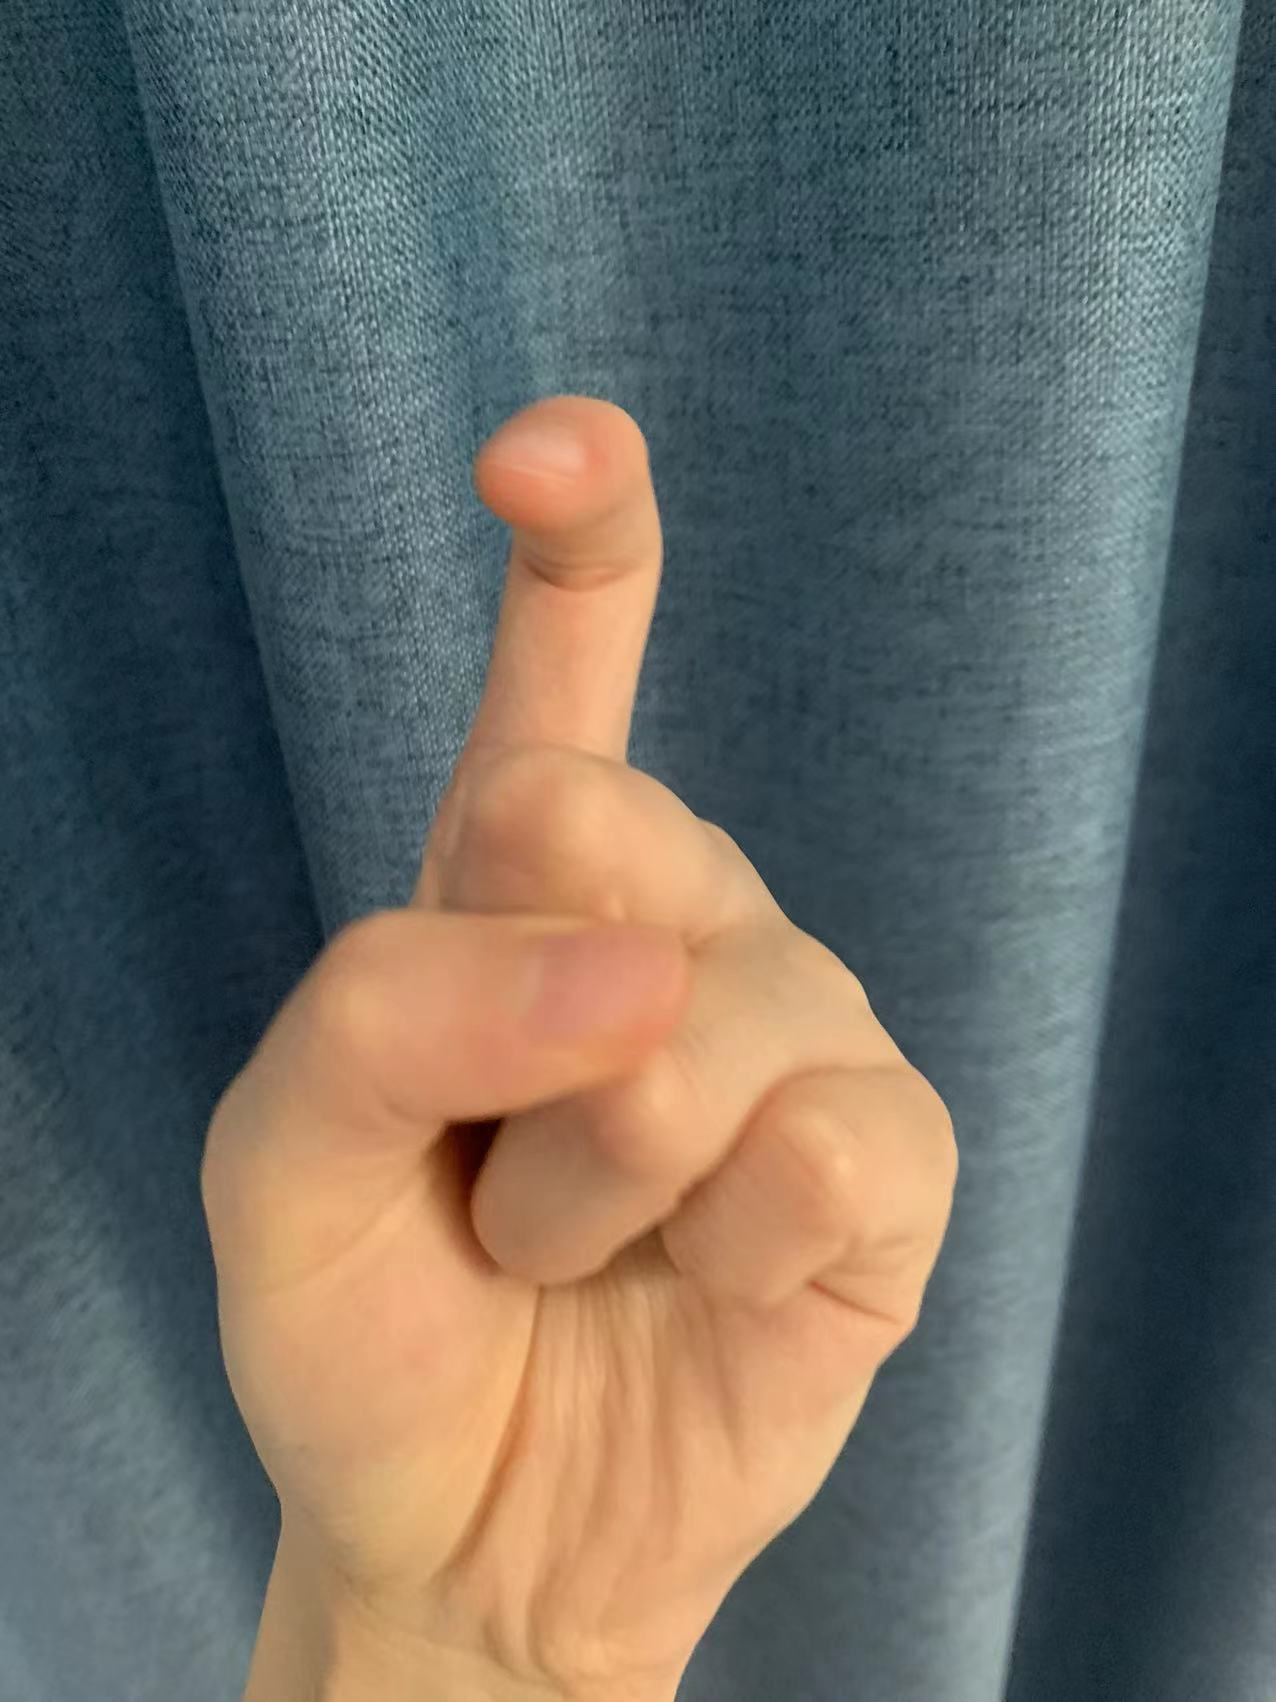anticlockwise: (184, 381, 962, 1544)
